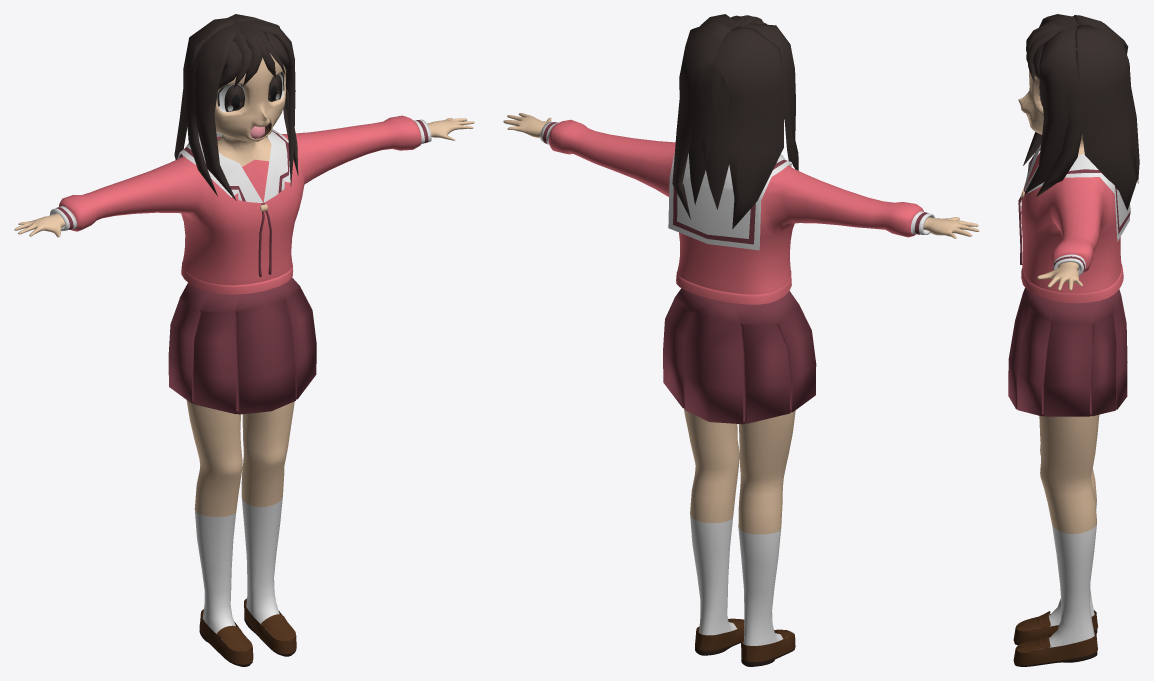
Rendered from osaka.glb.
3 views of the same model, side by side, from view 1: azimuth 30°, elevation 25°; view 2: azimuth 150°, elevation 25°; view 3: azimuth 270°, elevation 25° (orthographic). The views are drawn at different scales.
Parts seen in each view (by area): view 1: Plane.005; view 2: Plane.005; view 3: Plane.005.
Part boxes in pixels (x1,y1,x2,y2): Plane.005: (14, 14, 474, 666); Plane.005: (503, 14, 979, 666); Plane.005: (1008, 14, 1139, 666).
Size of the model in its own units: 7.42 by 9.59 by 1.81.
Materials: 12 (12 with a texture image).
